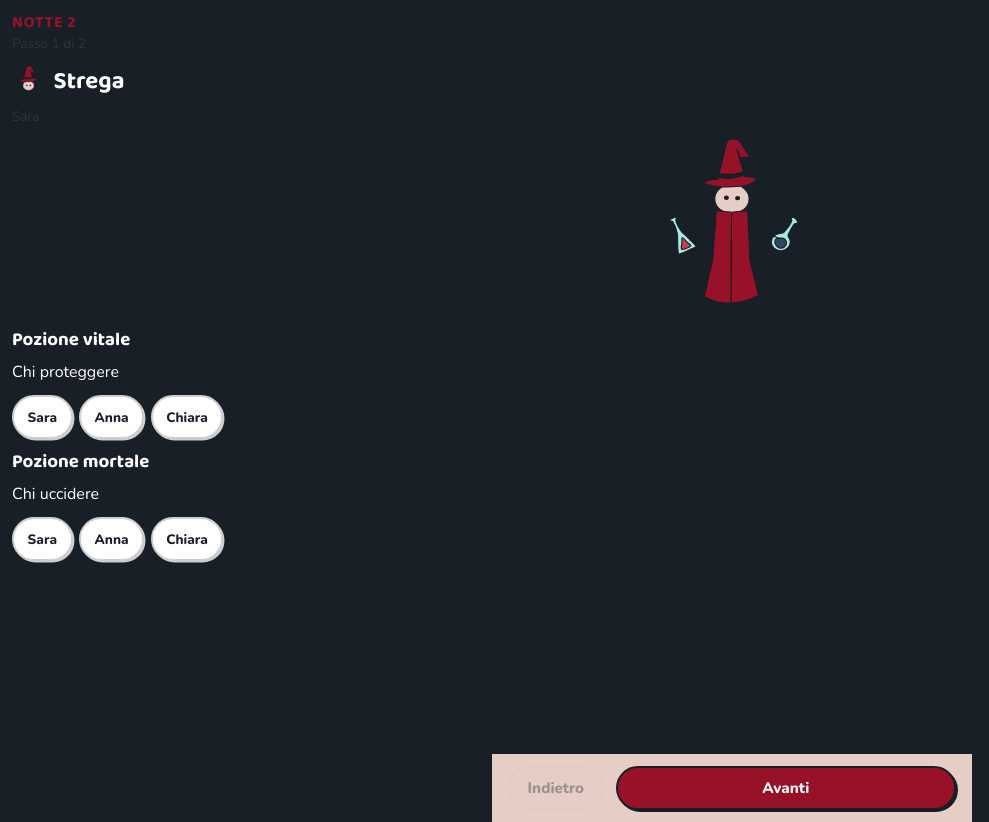
it: Indietro riapre un passo con Strega già usata: la pozione è di nuovo scegliibile, non "già utilizzata"
Click the button "Anna" below "Chi proteggere".
click(112, 417)  # box [79,395,144,439]
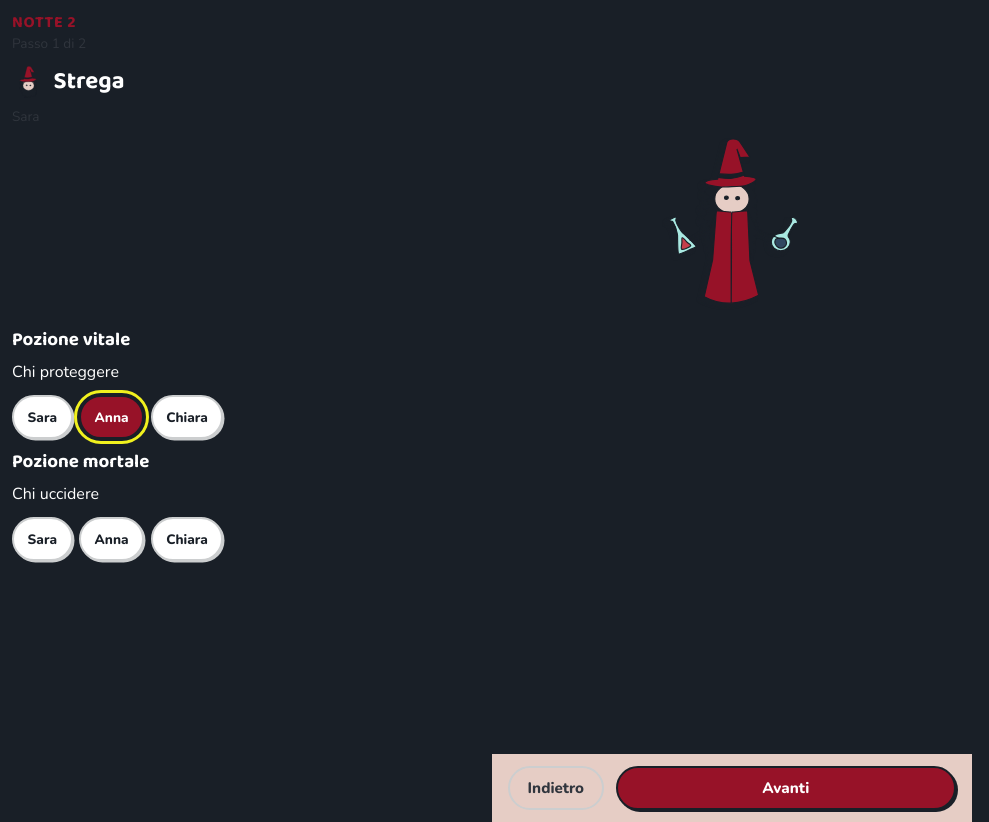
Click the button "Avanti".
click(786, 788)  # box [616,766,956,810]
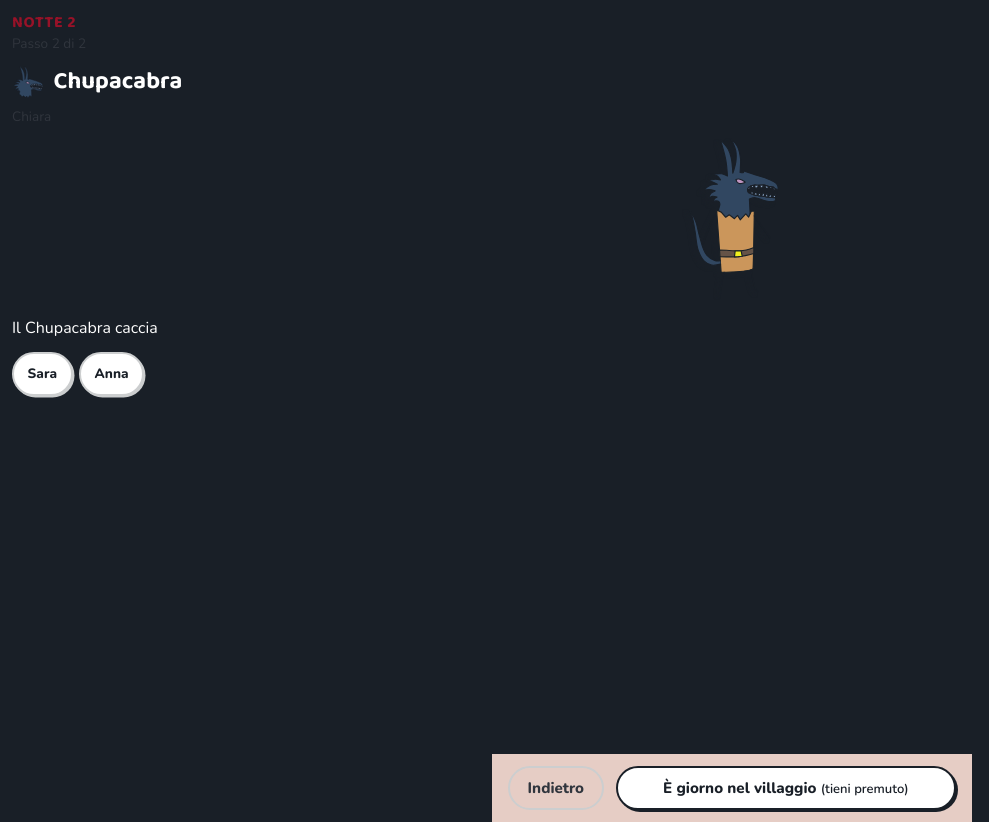
Result: the heading "Chupacabra" is shown at [12,62,182,101]
Click the button "Indietro".
click(556, 788)  # box [508,766,604,810]
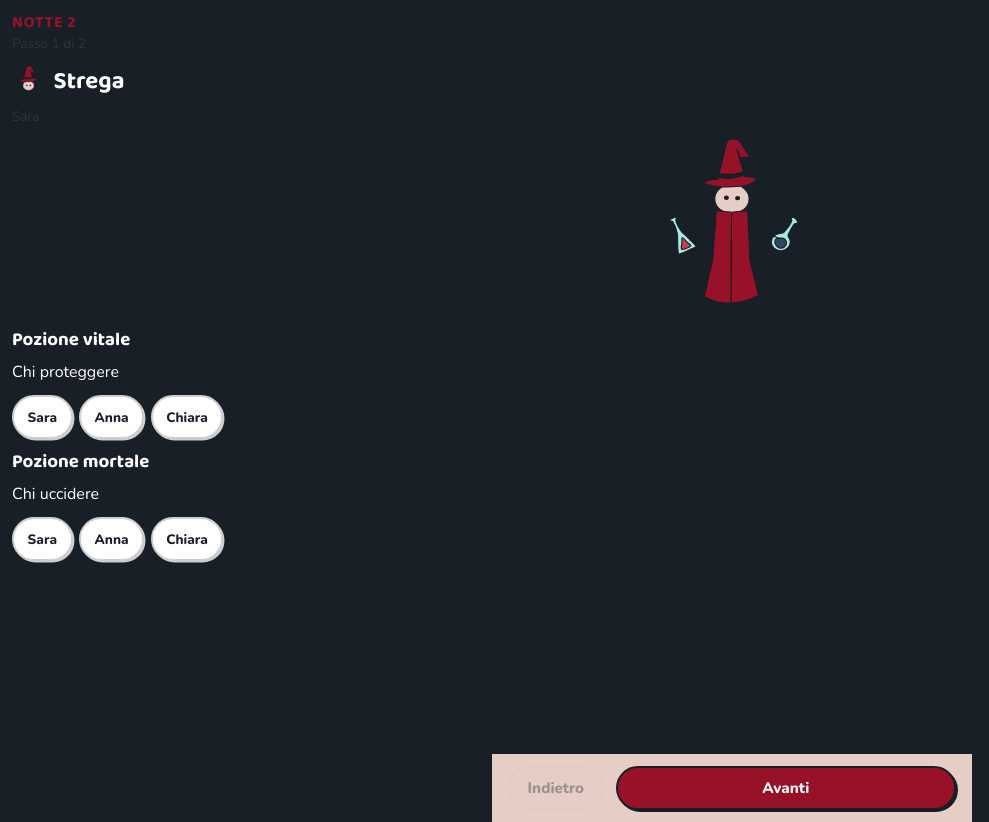
Result: the heading "Strega" is shown at [12,62,124,101]
